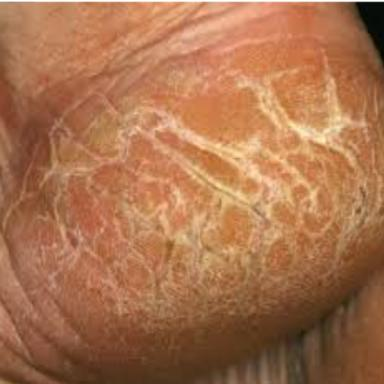eczema: (0, 39, 384, 380)
